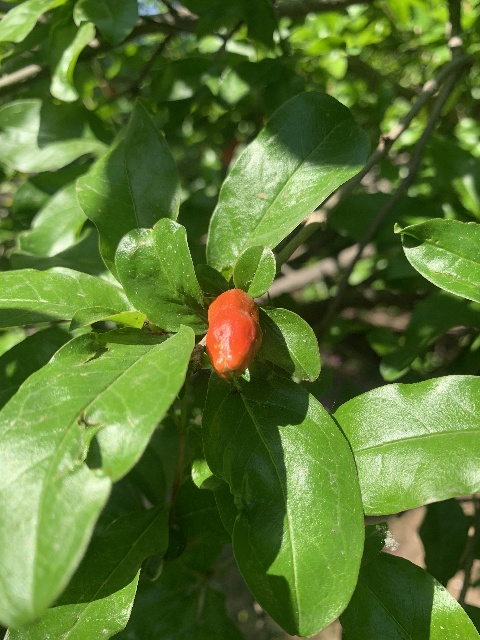bud: (205, 288, 261, 380)
